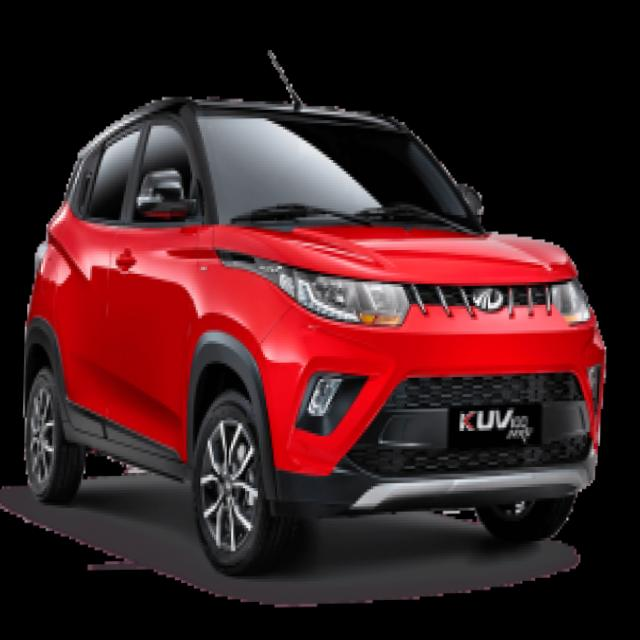licence: (444, 369, 569, 469)
